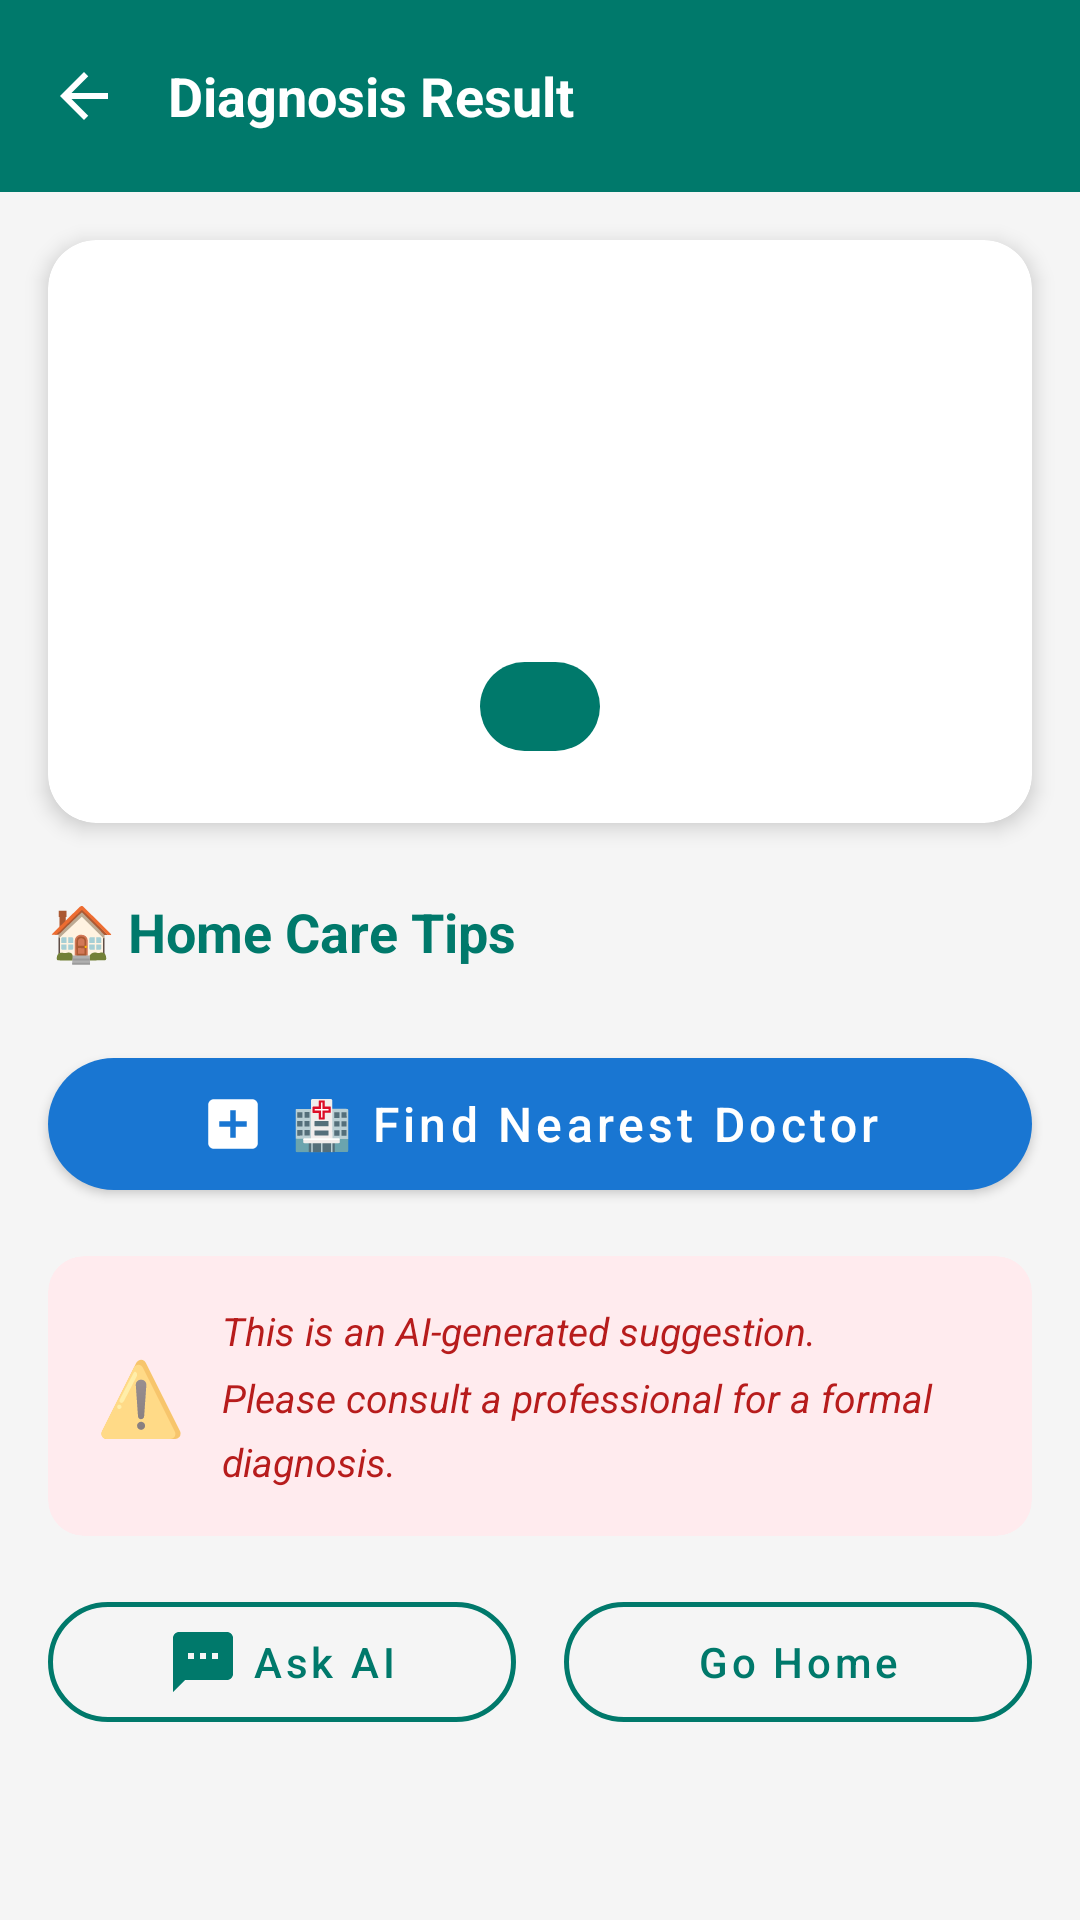

Named icons in this screenshot (1080*1920) and their bounding boxes, bbox=(x1, y1, x2, y2):
Back: bbox=(60, 72, 108, 120)
